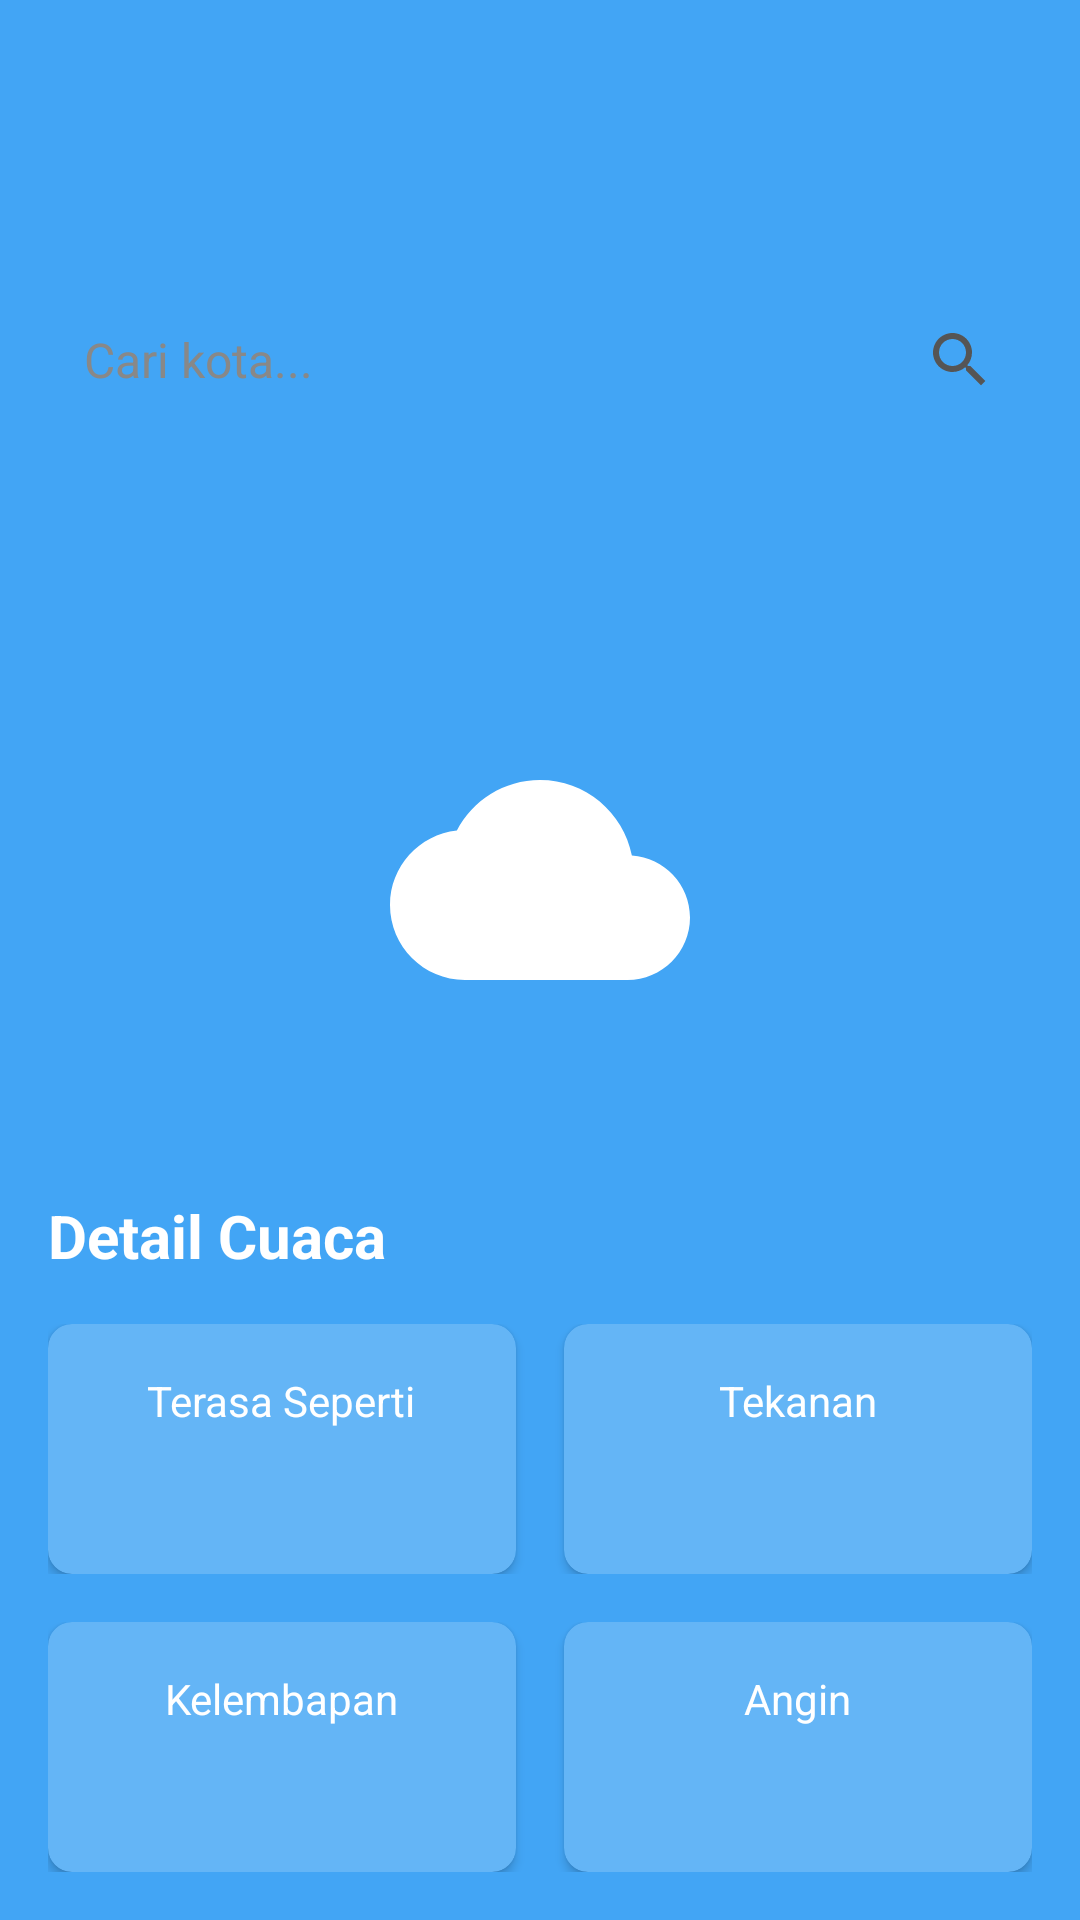

Icon click points for this 1080px x 1920px phone screenshot, format point (x, y):
cloud: point (540, 880)
search: point (959, 359)
